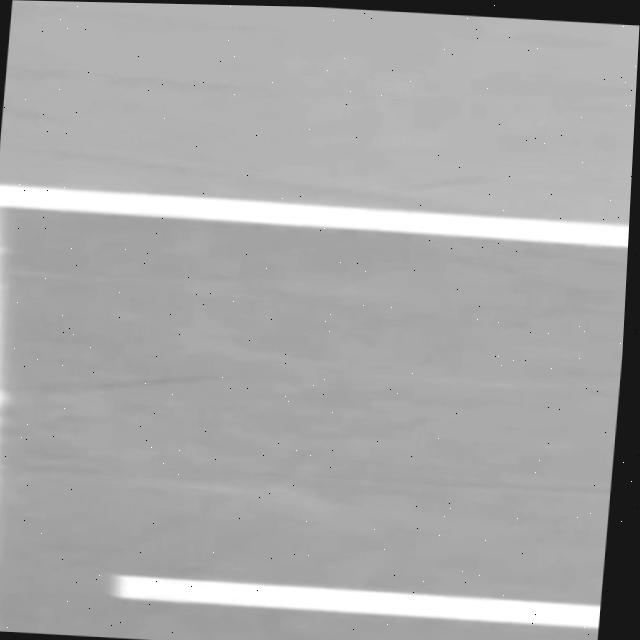center: (110, 574, 600, 628)
left: (0, 184, 629, 247)
